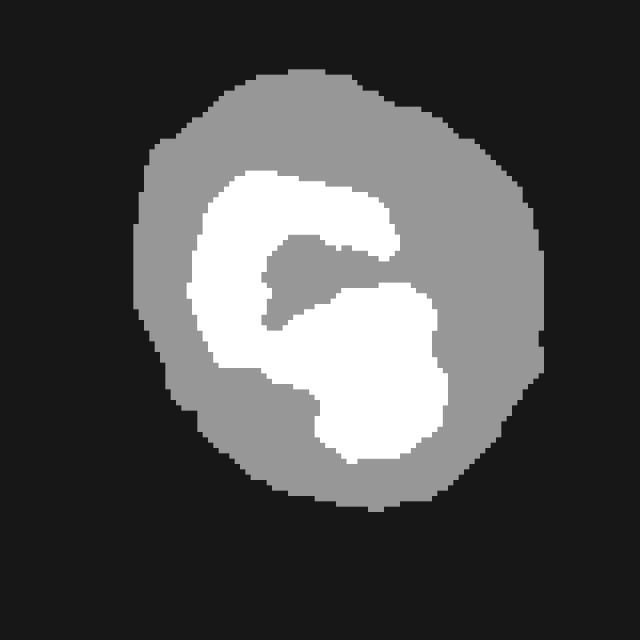WBC: (117, 53, 571, 528)
